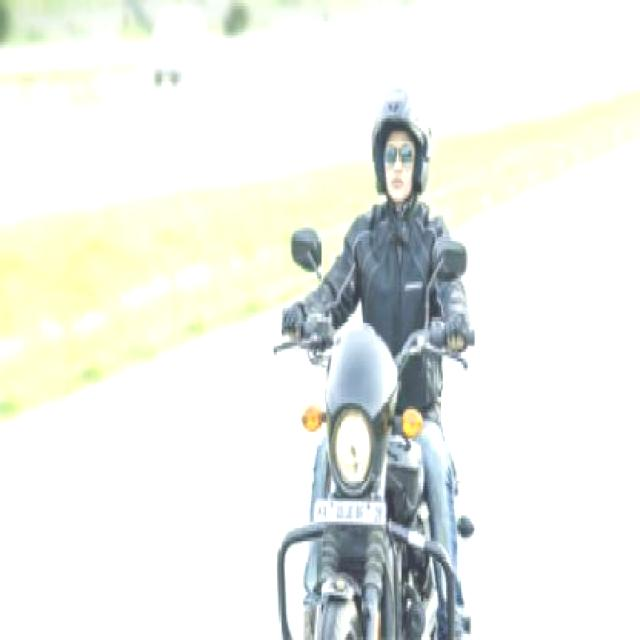With Helmet: (368, 74, 435, 212)
